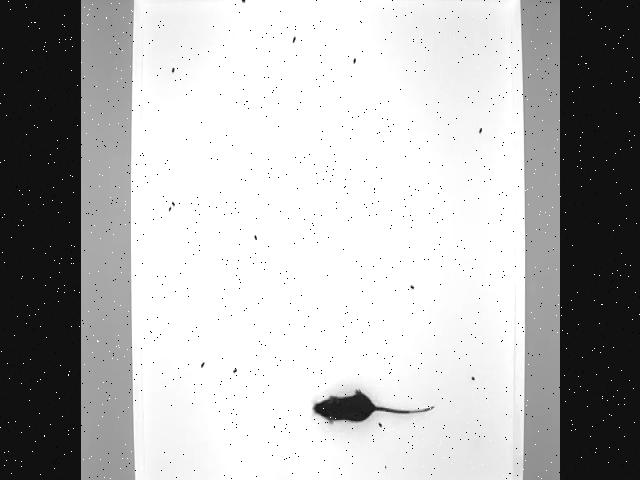Tikus: (309, 387, 436, 428)
